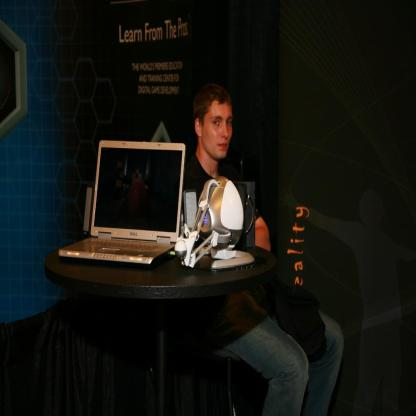board: (64, 135, 198, 273)
